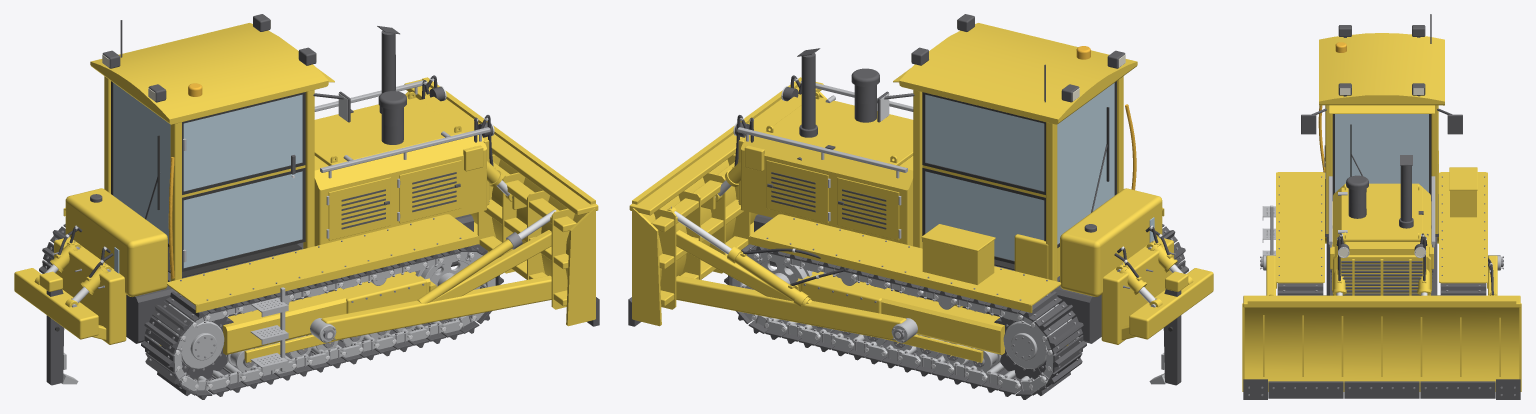
Rendered from SampleBulldozerFull.glb.
The picture shows the model from 3 angles, left to right: view 1: azimuth 30°, elevation 25°; view 2: azimuth 150°, elevation 25°; view 3: azimuth 270°, elevation 25°; orthographic projection. The views are drawn at different scales.
Visible parts, largest first — view 1: Bulldozer/Cab/Roof, Bulldozer/UndercarriageL/TrkL_Fender, Bulldozer/Cab/GlassSideLLower, Bulldozer/Cab/GlassSideLUpper, Bulldozer/Body/EngineHood, Bulldozer/Body/FuelTank, Bulldozer/Cab/GlassRear, Bulldozer/Blade/PushArmL, Bulldozer/Body/HoodTopHatch, Bulldozer/UndercarriageL/TrkL_TrackFrame, Bulldozer/Ripper/RipperMount, Bulldozer/Blade/EndPlateL (+36 smaller); view 2: Bulldozer/Cab/Roof, Bulldozer/Cab/GlassSideRUpper, Bulldozer/UndercarriageR/TrkR_Fender, Bulldozer/Body/EngineHood, Bulldozer/Body/FuelTank, Bulldozer/Cab/GlassRear, Bulldozer/Cab/GlassSideRLower, Bulldozer/Blade/PushArmR, Bulldozer/Body/HoodTopHatch, Bulldozer/UndercarriageR/TrkR_TrackFrame, Bulldozer/Ripper/RipperMount, Bulldozer/Blade/EndPlateR (+37 smaller); view 3: Bulldozer/Blade/Moldboard, Bulldozer/Cab/Roof, Bulldozer/Cab/GlassFront, Bulldozer/UndercarriageL/TrkL_Fender, Bulldozer/UndercarriageR/TrkR_Fender, Bulldozer/Body/HoodTopHatch, Bulldozer/Blade/TopRail, Bulldozer/Body/EngineHood, Bulldozer/Blade/SpillGuardLip, Bulldozer/Body/GrilleFrame, Bulldozer/Blade/CuttingEdge1, Bulldozer/Blade/CuttingEdge3 (+21 smaller).
Boxes of the visible parts, bbox=[...] form: Bulldozer/Cab/Roof: bbox=[90, 23, 328, 124]; Bulldozer/UndercarriageL/TrkL_Fender: bbox=[167, 214, 477, 305]; Bulldozer/Cab/GlassSideLLower: bbox=[183, 171, 302, 267]; Bulldozer/Cab/GlassSideLUpper: bbox=[183, 94, 302, 191]; Bulldozer/Body/EngineHood: bbox=[314, 96, 486, 246]; Bulldozer/Body/FuelTank: bbox=[65, 188, 167, 296]; Bulldozer/Cab/GlassRear: bbox=[113, 83, 170, 243]; Bulldozer/Blade/PushArmL: bbox=[321, 275, 551, 340]; Bulldozer/Body/HoodTopHatch: bbox=[314, 97, 463, 165]; Bulldozer/UndercarriageL/TrkL_TrackFrame: bbox=[223, 271, 430, 354]; Bulldozer/Ripper/RipperMount: bbox=[54, 237, 126, 344]; Bulldozer/Blade/EndPlateL: bbox=[566, 208, 595, 326]; Bulldozer/Cab/Roof: bbox=[899, 23, 1137, 124]; Bulldozer/Cab/GlassSideRUpper: bbox=[925, 94, 1044, 191]; Bulldozer/UndercarriageR/TrkR_Fender: bbox=[750, 214, 1061, 305]; Bulldozer/Body/EngineHood: bbox=[741, 96, 913, 246]; Bulldozer/Body/FuelTank: bbox=[1060, 188, 1162, 296]; Bulldozer/Cab/GlassRear: bbox=[1057, 83, 1114, 244]; Bulldozer/Cab/GlassSideRLower: bbox=[925, 171, 1044, 260]; Bulldozer/Blade/PushArmR: bbox=[676, 275, 906, 341]; Bulldozer/Body/HoodTopHatch: bbox=[764, 97, 913, 165]; Bulldozer/UndercarriageR/TrkR_TrackFrame: bbox=[797, 271, 1004, 354]; Bulldozer/Ripper/RipperMount: bbox=[1101, 237, 1173, 344]; Bulldozer/Blade/EndPlateR: bbox=[632, 208, 661, 326]; Bulldozer/Blade/Moldboard: bbox=[1244, 307, 1519, 391]; Bulldozer/Cab/Roof: bbox=[1319, 33, 1444, 105]; Bulldozer/Cab/GlassFront: bbox=[1335, 114, 1428, 192]; Bulldozer/UndercarriageL/TrkL_Fender: bbox=[1276, 172, 1324, 283]; Bulldozer/UndercarriageR/TrkR_Fender: bbox=[1439, 172, 1487, 283]; Bulldozer/Body/HoodTopHatch: bbox=[1341, 187, 1422, 241]; Bulldozer/Blade/TopRail: bbox=[1243, 295, 1520, 307]; Bulldozer/Body/EngineHood: bbox=[1333, 183, 1430, 295]; Bulldozer/Blade/SpillGuardLip: bbox=[1247, 299, 1516, 305]; Bulldozer/Body/GrilleFrame: bbox=[1337, 255, 1426, 293]; Bulldozer/Blade/CuttingEdge1: bbox=[1268, 381, 1343, 398]; Bulldozer/Blade/CuttingEdge3: bbox=[1420, 381, 1495, 398].
Size of the model in its own units: 5314 by 3470 by 3430.
